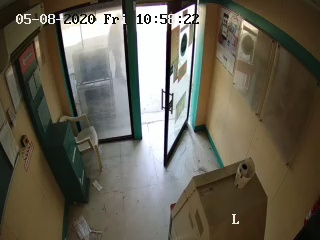open: (121, 1, 196, 176)
